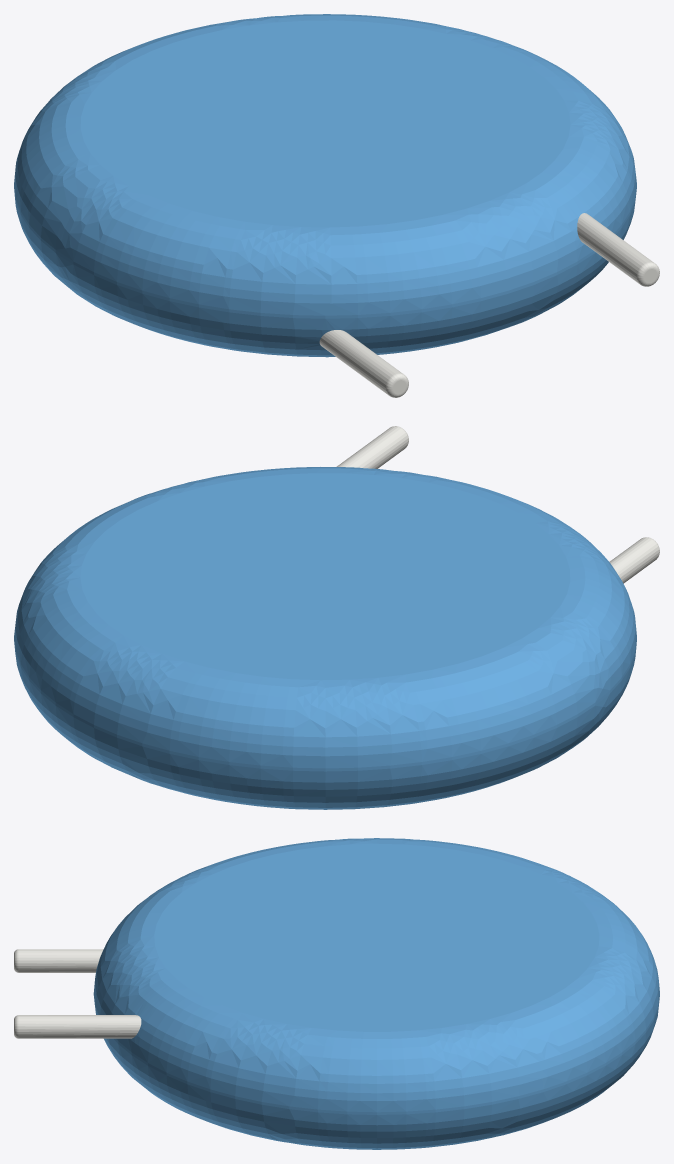
The model's file is RV_Disc_D21.5mm_W4.7mm_P10mm.glb.
3 renders of one model, top to bottom at view 1: azimuth 30°, elevation 25°; view 2: azimuth 150°, elevation 25°; view 3: azimuth 270°, elevation 25°, orthographic. The views are drawn at different scales.
Parts seen in each view (by area): view 1: Shape_IndexedFaceSet.003, Shape_IndexedFaceSet.001, Shape_IndexedFaceSet.002, Shape_IndexedFaceSet, Shape_IndexedFaceSet.006, Shape_IndexedFaceSet.004; view 2: Shape_IndexedFaceSet.003, Shape_IndexedFaceSet.001, Shape_IndexedFaceSet.002, Shape_IndexedFaceSet, Shape_IndexedFaceSet.004, Shape_IndexedFaceSet.006; view 3: Shape_IndexedFaceSet.003, Shape_IndexedFaceSet.001, Shape_IndexedFaceSet.002, Shape_IndexedFaceSet.004, Shape_IndexedFaceSet.006, Shape_IndexedFaceSet.
Boxes of the visible parts, box(x1,y1,x2,y2) form: Shape_IndexedFaceSet.003: box(80, 20, 570, 227); Shape_IndexedFaceSet.001: box(14, 14, 636, 315); Shape_IndexedFaceSet.002: box(14, 191, 636, 357); Shape_IndexedFaceSet: box(14, 185, 636, 318); Shape_IndexedFaceSet.006: box(319, 330, 402, 394); Shape_IndexedFaceSet.004: box(577, 213, 653, 283); Shape_IndexedFaceSet.003: box(80, 473, 570, 680); Shape_IndexedFaceSet.001: box(14, 467, 636, 768); Shape_IndexedFaceSet.002: box(14, 641, 636, 809); Shape_IndexedFaceSet: box(14, 638, 636, 771); Shape_IndexedFaceSet.004: box(336, 426, 408, 468); Shape_IndexedFaceSet.006: box(609, 537, 659, 583); Shape_IndexedFaceSet.003: box(154, 843, 599, 1031); Shape_IndexedFaceSet.001: box(94, 838, 659, 1112); Shape_IndexedFaceSet.002: box(94, 999, 659, 1149); Shape_IndexedFaceSet.004: box(18, 1015, 141, 1038); Shape_IndexedFaceSet.006: box(18, 949, 103, 972); Shape_IndexedFaceSet: box(93, 993, 659, 1114).
Bounding box in the file's own units: 8.47 × 1.85 × 9.66.
